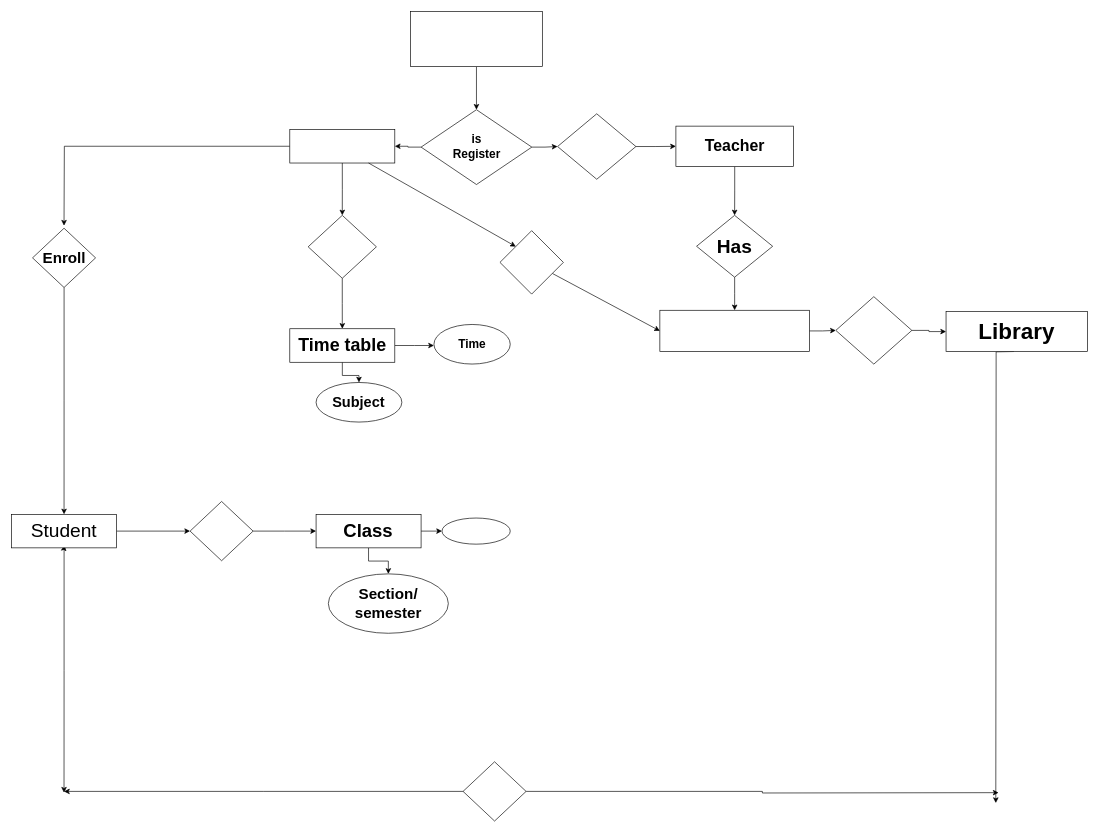
This 1099x833 diagram has some shape labels left out. The centre of each missing label's shape, as x and y in pixels:
Course: the point at 342,146
Department: the point at 734,331
Follow: the point at 341,246
Register: the point at 476,39
Room no.: the point at 475,530
Teaches: the point at 596,146
